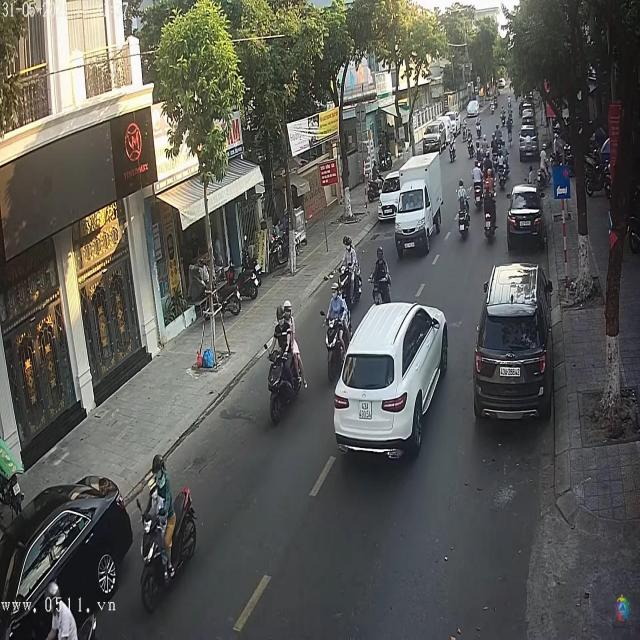bus: (418, 126, 446, 156)
car: (330, 302, 448, 462), (473, 263, 555, 420), (507, 185, 544, 238), (421, 134, 441, 153)
motorcycle: (135, 489, 199, 618), (265, 326, 301, 420), (483, 200, 498, 243), (459, 196, 470, 242)
truck: (392, 154, 446, 256)
